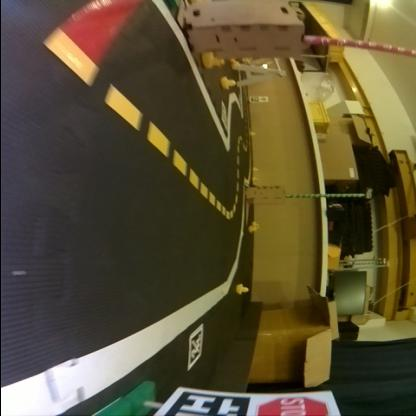Duckie: (202, 51, 224, 67), (222, 76, 235, 88), (236, 284, 249, 294), (248, 226, 256, 232), (252, 221, 259, 227)
QR code: (164, 390, 249, 416), (188, 323, 201, 370)
Stop sign: (256, 396, 330, 415)
